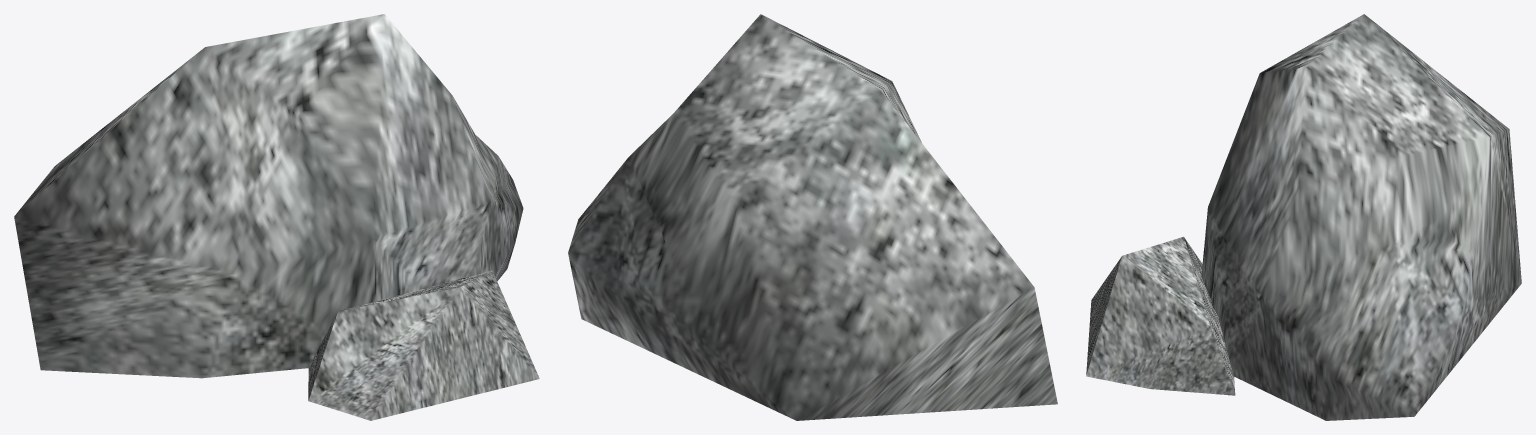
Rendered from geology-gray-rock1.glb.
3 views of the same model, side by side, from view 1: azimuth 30°, elevation 25°; view 2: azimuth 150°, elevation 25°; view 3: azimuth 270°, elevation 25° (orthographic).
Visible parts, largest first — view 1: wrld_rock_snow2; view 2: wrld_rock_snow2; view 3: wrld_rock_snow2.
Part boxes in pixels (left/top/right/bottom): wrld_rock_snow2: left=14, top=14, right=539, bottom=420; wrld_rock_snow2: left=568, top=14, right=1057, bottom=420; wrld_rock_snow2: left=1086, top=14, right=1521, bottom=420.
Size of the model in its own units: 1.47 by 0.8735 by 1.18.
1 material, 1 textured.
